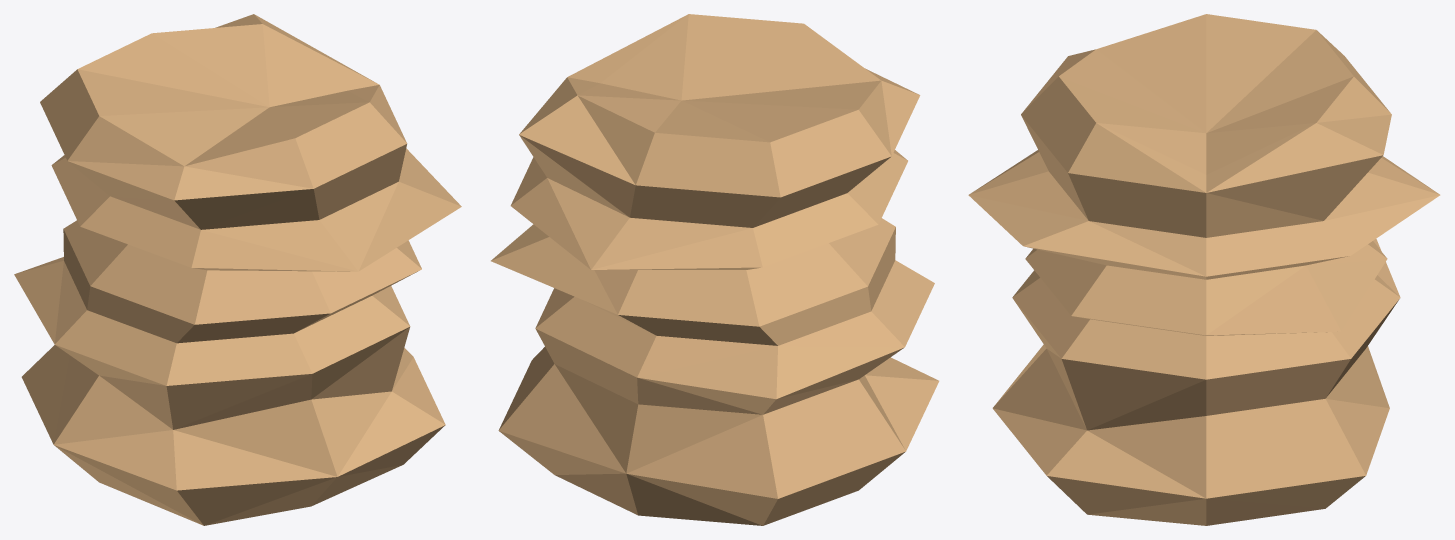
Rendered from Rock_9.fbx.
3 renders of one model, left to right at view 1: azimuth 30°, elevation 25°; view 2: azimuth 150°, elevation 25°; view 3: azimuth 270°, elevation 25°, orthographic. The views are drawn at different scales.
Visible parts, largest first — view 1: Rock_9; view 2: Rock_9; view 3: Rock_9.
Part boxes in pixels (<box>): Rock_9: <box>14,14,461,525</box>; Rock_9: <box>491,14,939,525</box>; Rock_9: <box>968,14,1440,525</box>.
Bounding box in the file's own units: 151 × 167 × 147.
